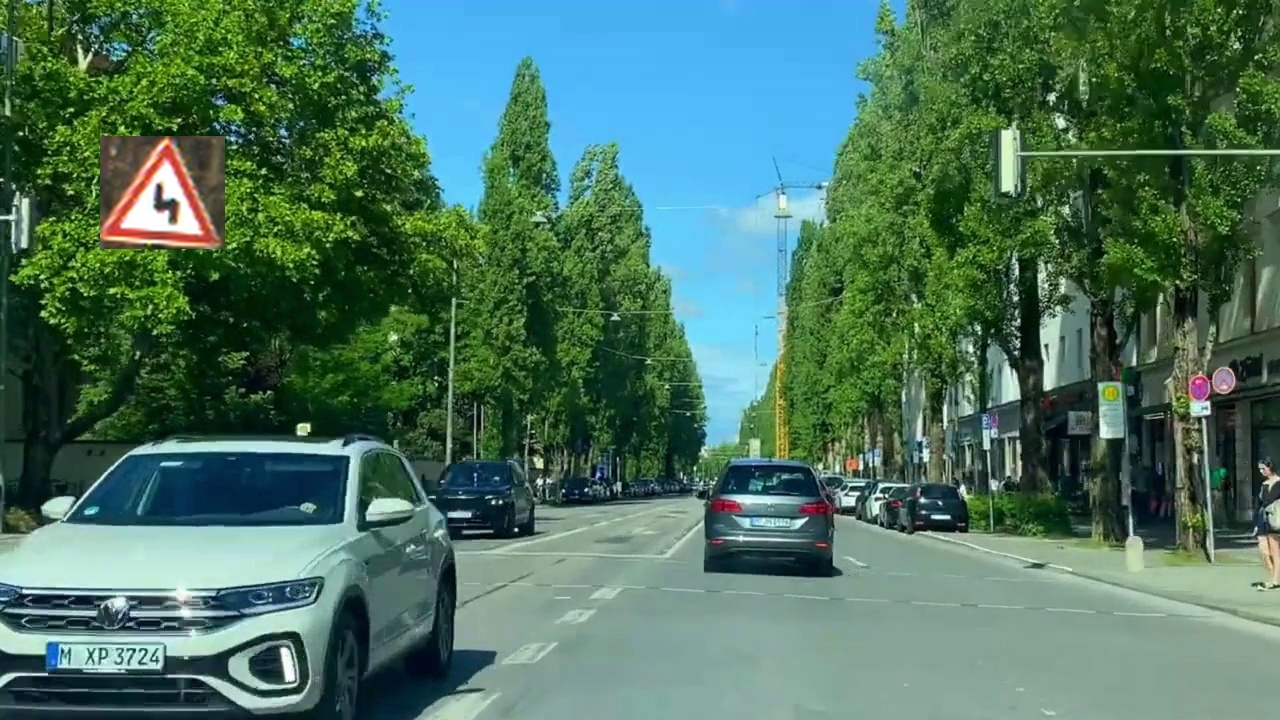Double curve: (100, 136, 225, 249)
